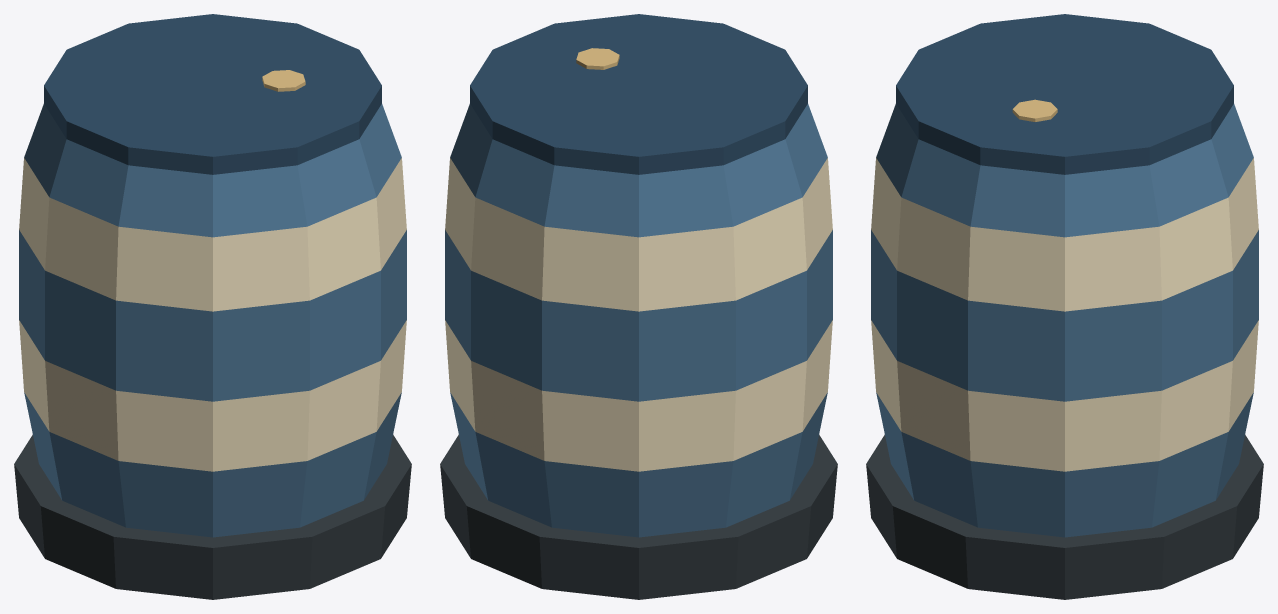
File: police-barrel.glb
3 views of the same model, side by side, from view 1: azimuth 30°, elevation 25°; view 2: azimuth 150°, elevation 25°; view 3: azimuth 270°, elevation 25° (orthographic).
Parts seen in each view (by area): view 1: police-barrel; view 2: police-barrel; view 3: police-barrel.
Part boxes in pixels (x1,y1,x2,y2): police-barrel: (14, 14, 411, 599); police-barrel: (440, 14, 837, 599); police-barrel: (866, 14, 1263, 599).
Size of the model in its own units: 0.8 by 0.968 by 0.8.
1 material, 1 textured.
